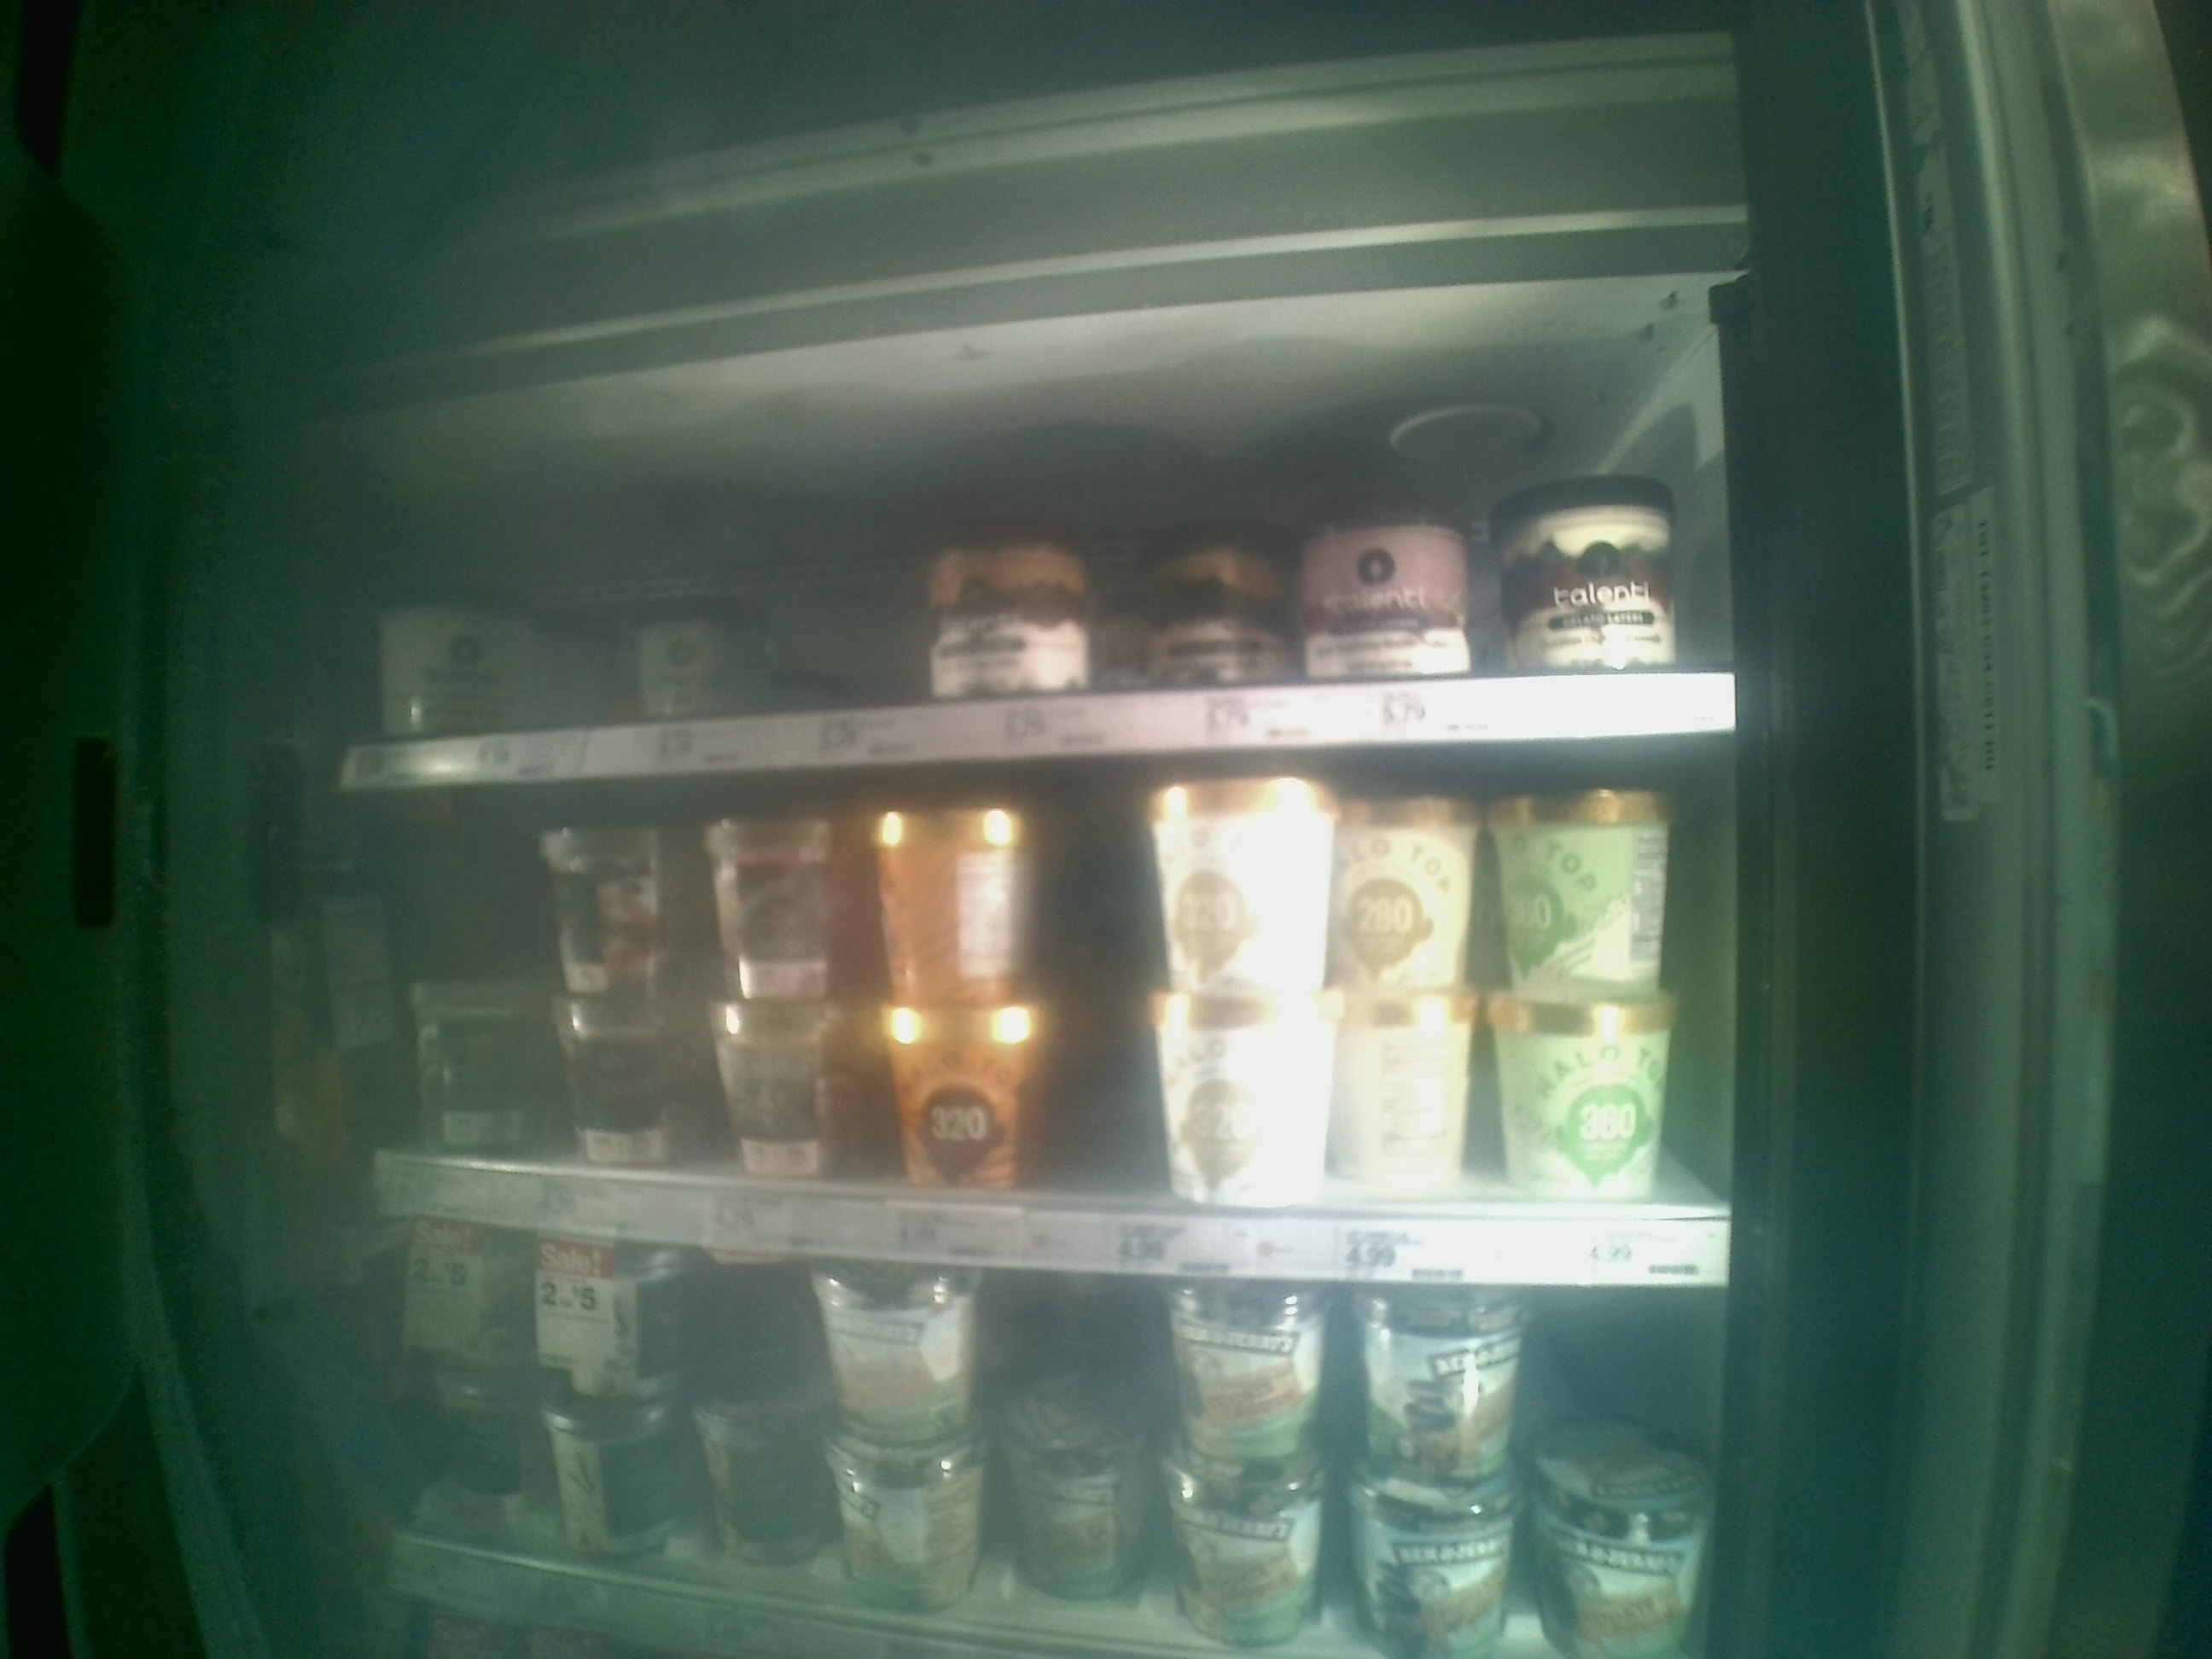shelf: (341, 732, 1759, 1298), (334, 413, 1754, 791)
